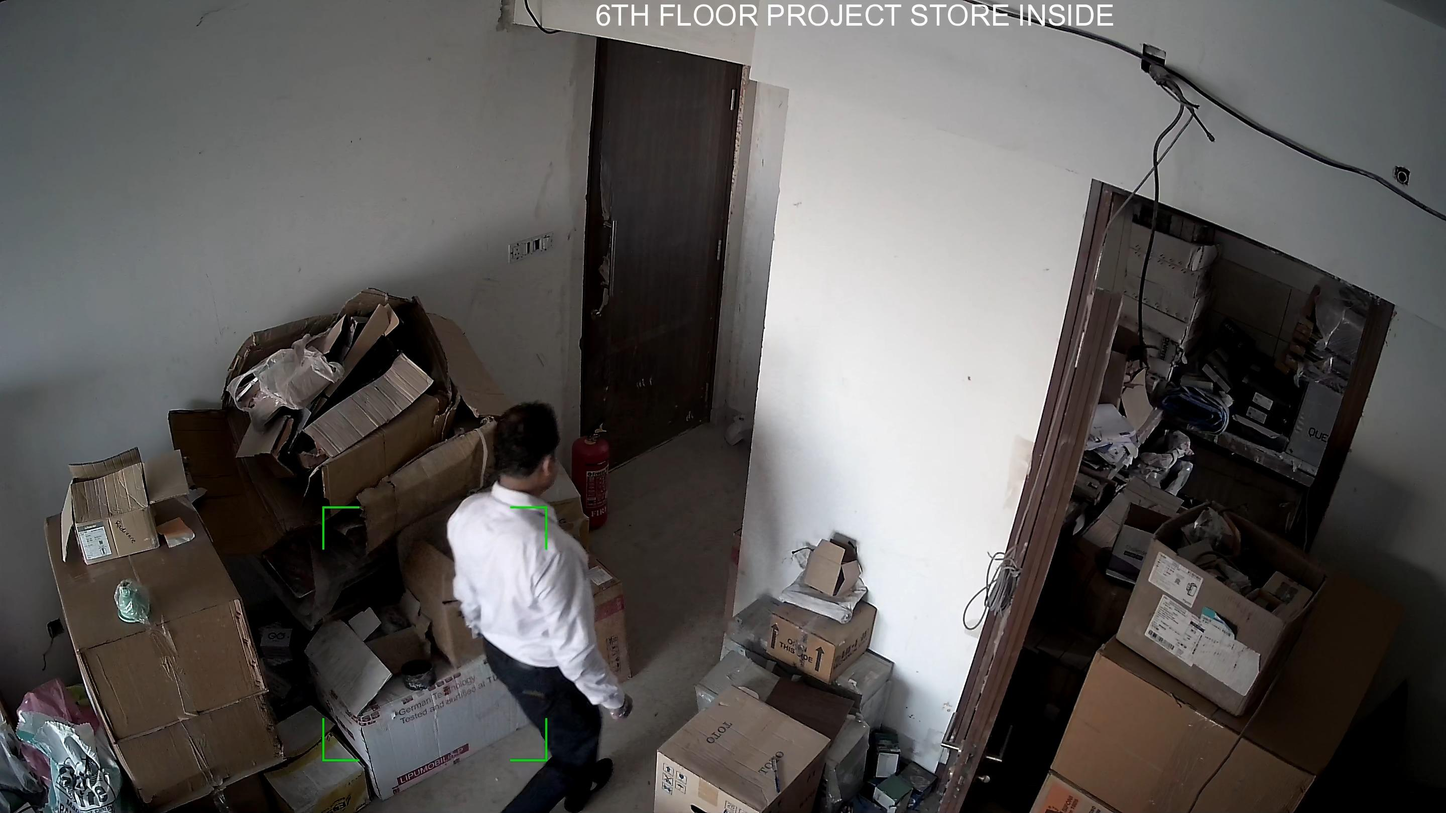Door-Close: (571, 35, 757, 467)
